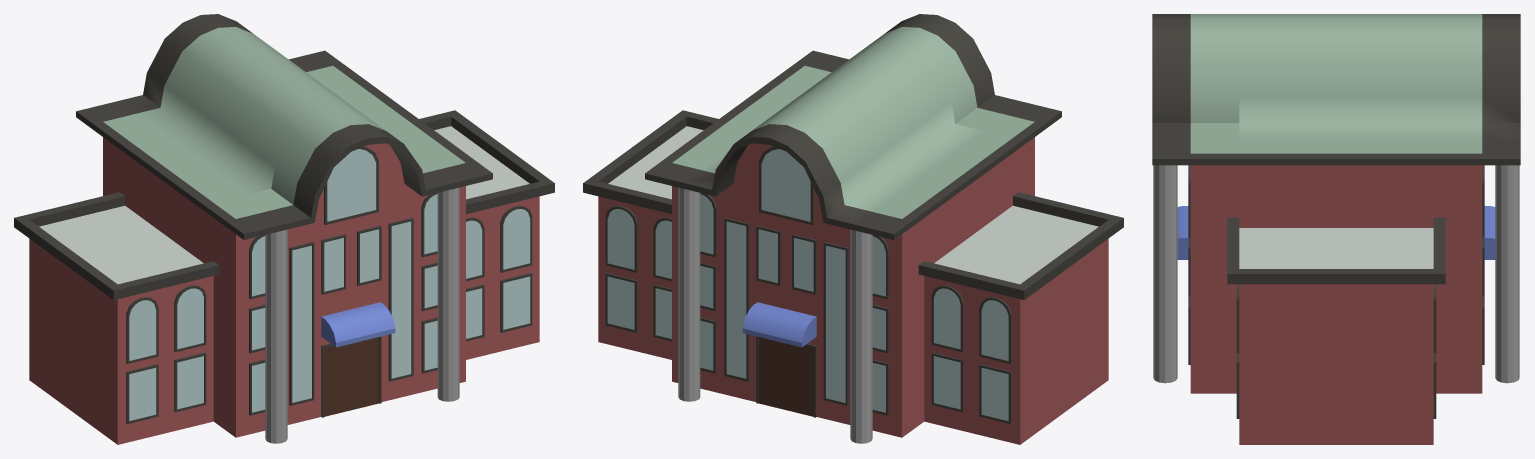
Rendered from building_large.fbx.
3 renders of one model, left to right at view 1: azimuth 30°, elevation 25°; view 2: azimuth 150°, elevation 25°; view 3: azimuth 270°, elevation 25°, orthographic. The views are drawn at different scales.
Parts seen in each view (by area): view 1: base, column2, column3, door2, window37, window38, window36, awning2, window28, window31, window30, window22 (+12 smaller); view 2: base, column1, column, door1, window18, window19, window17, awning1, window6, window9, window8, window (+12 smaller); view 3: base, column2, column1, awning1, awning2.
Boxes of the visible parts, x1=… form: base: x1=14, y1=14, x2=554, y2=444; column2: x1=437, y1=187, x2=459, y2=401; column3: x1=265, y1=229, x2=287, y2=443; door2: x1=321, y1=336, x2=381, y2=417; window37: x1=289, y1=242, x2=314, y2=405; window38: x1=388, y1=218, x2=413, y2=381; window36: x1=324, y1=146, x2=378, y2=225; awning2: x1=321, y1=302, x2=395, y2=347; window28: x1=500, y1=205, x2=532, y2=272; window31: x1=126, y1=297, x2=158, y2=363; window30: x1=174, y1=285, x2=206, y2=352; window22: x1=174, y1=352, x2=206, y2=412; base: x1=583, y1=14, x2=1123, y2=444; column1: x1=678, y1=187, x2=700, y2=401; column: x1=850, y1=229, x2=872, y2=443; door1: x1=756, y1=336, x2=816, y2=417; window18: x1=823, y1=242, x2=848, y2=405; window19: x1=724, y1=218, x2=749, y2=381; window17: x1=759, y1=146, x2=813, y2=225; awning1: x1=742, y1=302, x2=816, y2=347; window6: x1=605, y1=205, x2=637, y2=272; window9: x1=979, y1=297, x2=1011, y2=363; window8: x1=931, y1=285, x2=963, y2=352; window: x1=931, y1=352, x2=963, y2=412; base: x1=1152, y1=14, x2=1520, y2=444; column2: x1=1153, y1=165, x2=1177, y2=383; column1: x1=1495, y1=165, x2=1519, y2=383; awning1: x1=1484, y1=206, x2=1495, y2=259; awning2: x1=1177, y1=206, x2=1188, y2=259.
Bounding box in the file's own units: 2300 × 1418 × 1517.
